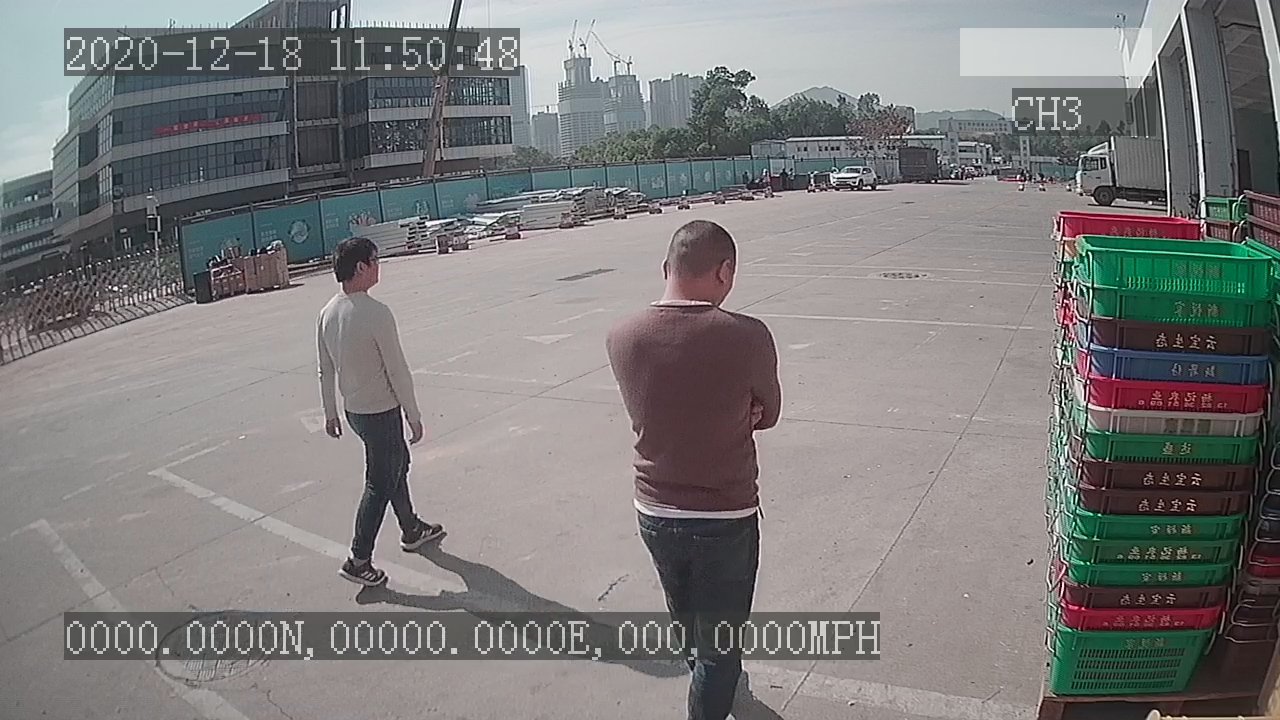person: (311, 233, 454, 594)
